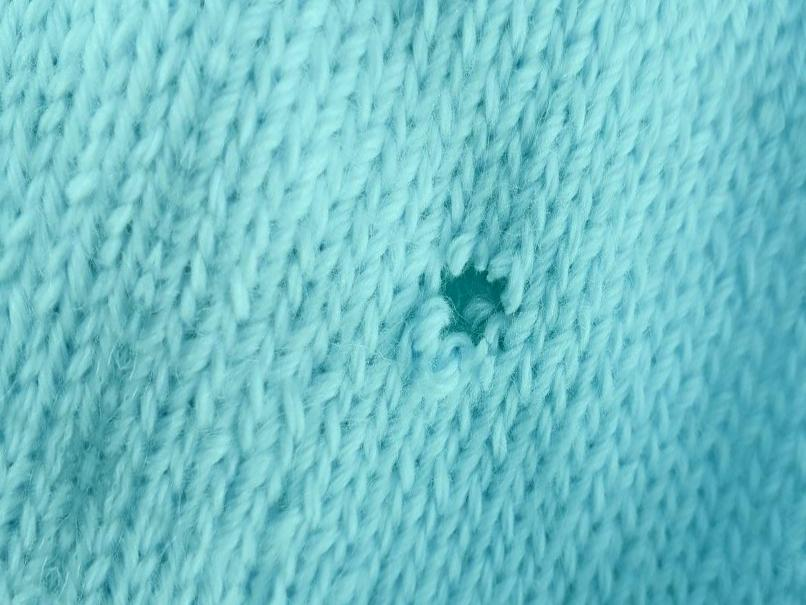hole: (418, 266, 532, 353)
